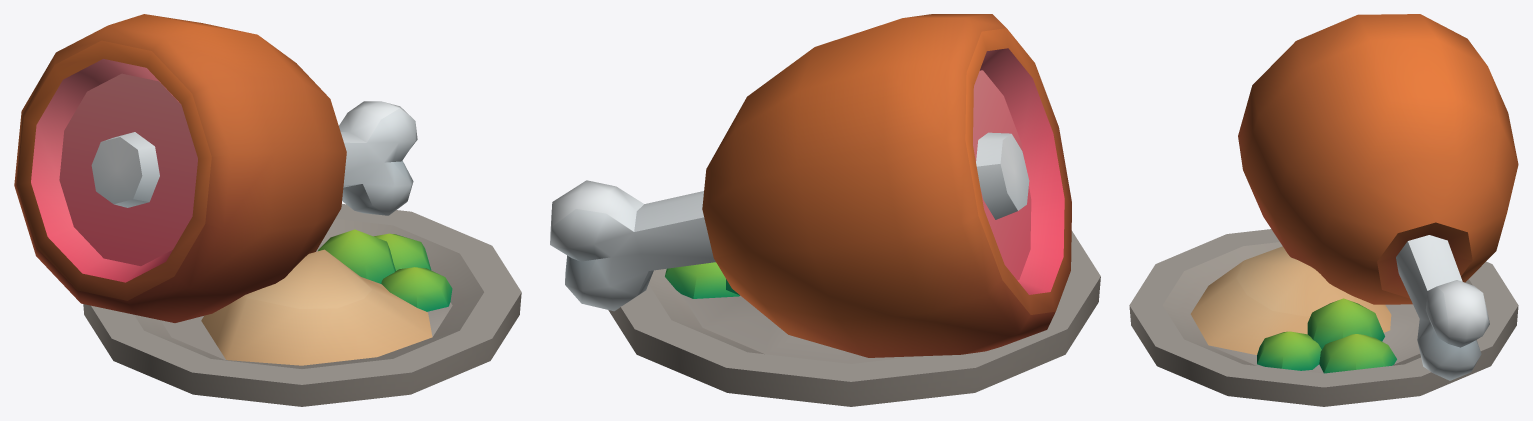
File: plate_food_A.gltf
The picture shows the model from 3 angles, left to right: view 1: azimuth 30°, elevation 25°; view 2: azimuth 150°, elevation 25°; view 3: azimuth 270°, elevation 25°; orthographic projection. The views are drawn at different scales.
Visible parts, largest first — view 1: plate_food_A; view 2: plate_food_A; view 3: plate_food_A.
Part boxes in pixels (left/top/right/bottom): plate_food_A: left=14, top=14, right=521, bottom=406; plate_food_A: left=550, top=14, right=1100, bottom=406; plate_food_A: left=1129, top=14, right=1518, bottom=406.
Bounding box in the file's own units: 1.02 × 0.7875 × 0.9706.
Materials: 1 (1 with a texture image).
